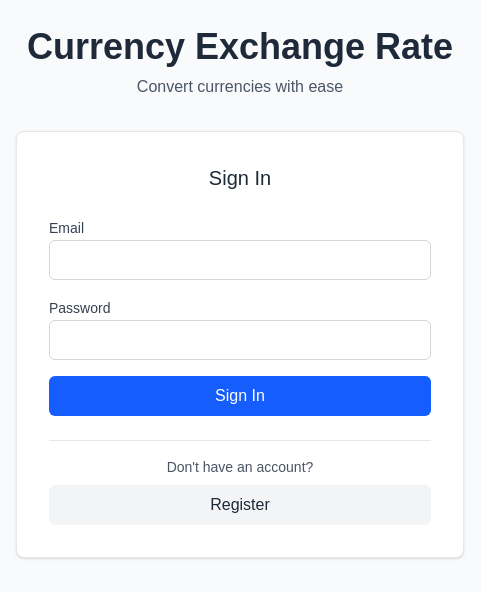
Test: LoginContainer › should show an error if the password does not have special characters
Type "valid@example.com" into the field labelled "Email".
click(240, 260); type("valid@example.com")  # box [49,240,431,280]
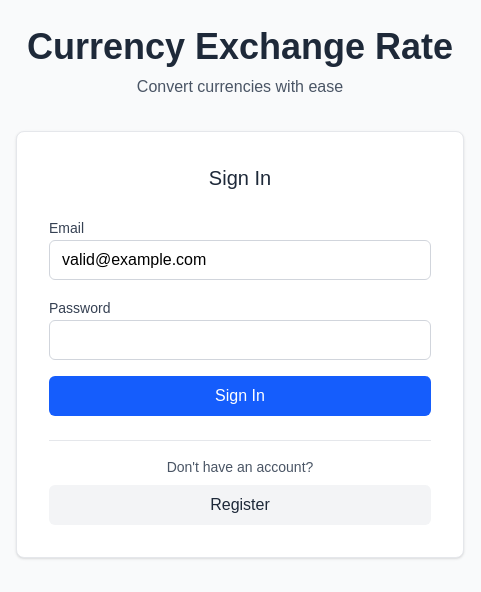
Type "password12345" into the password field labelled "Password".
click(240, 340); type("password12345")  # box [49,320,431,360]
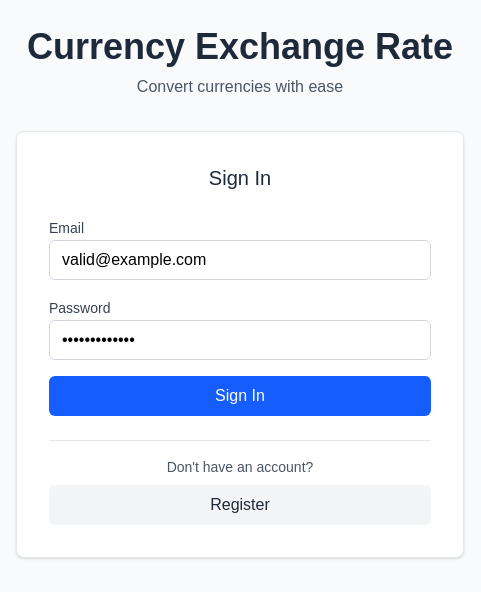
Submit the form "Email Password Sign In", box [49,216,431,416]
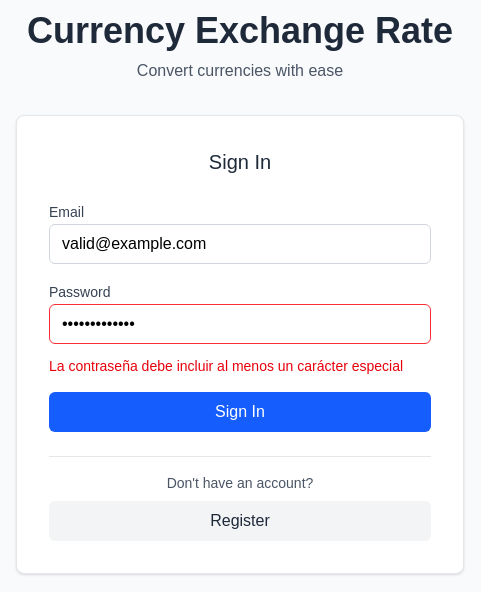
Expected: the text "La contraseña debe incluir al menos un carácter especial" is shown, [49,356,431,376]
